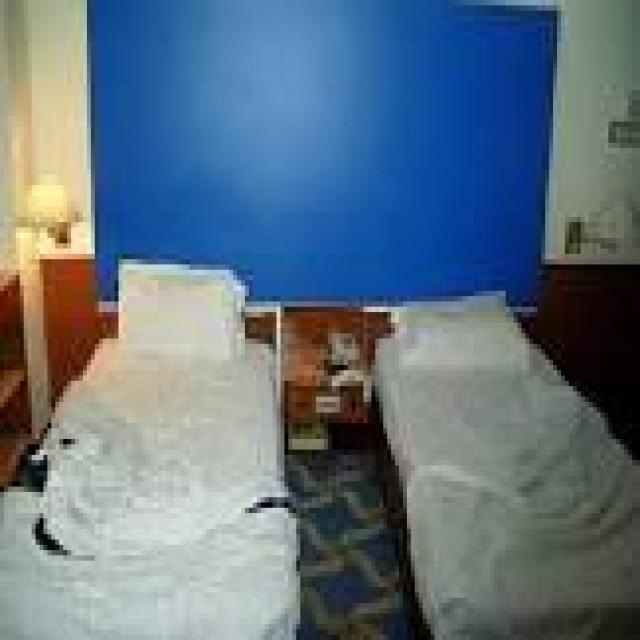mess: (379, 322, 639, 640), (89, 327, 275, 640), (283, 303, 363, 400)
